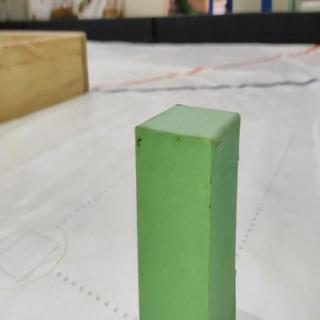greenbox: (131, 101, 242, 320)
